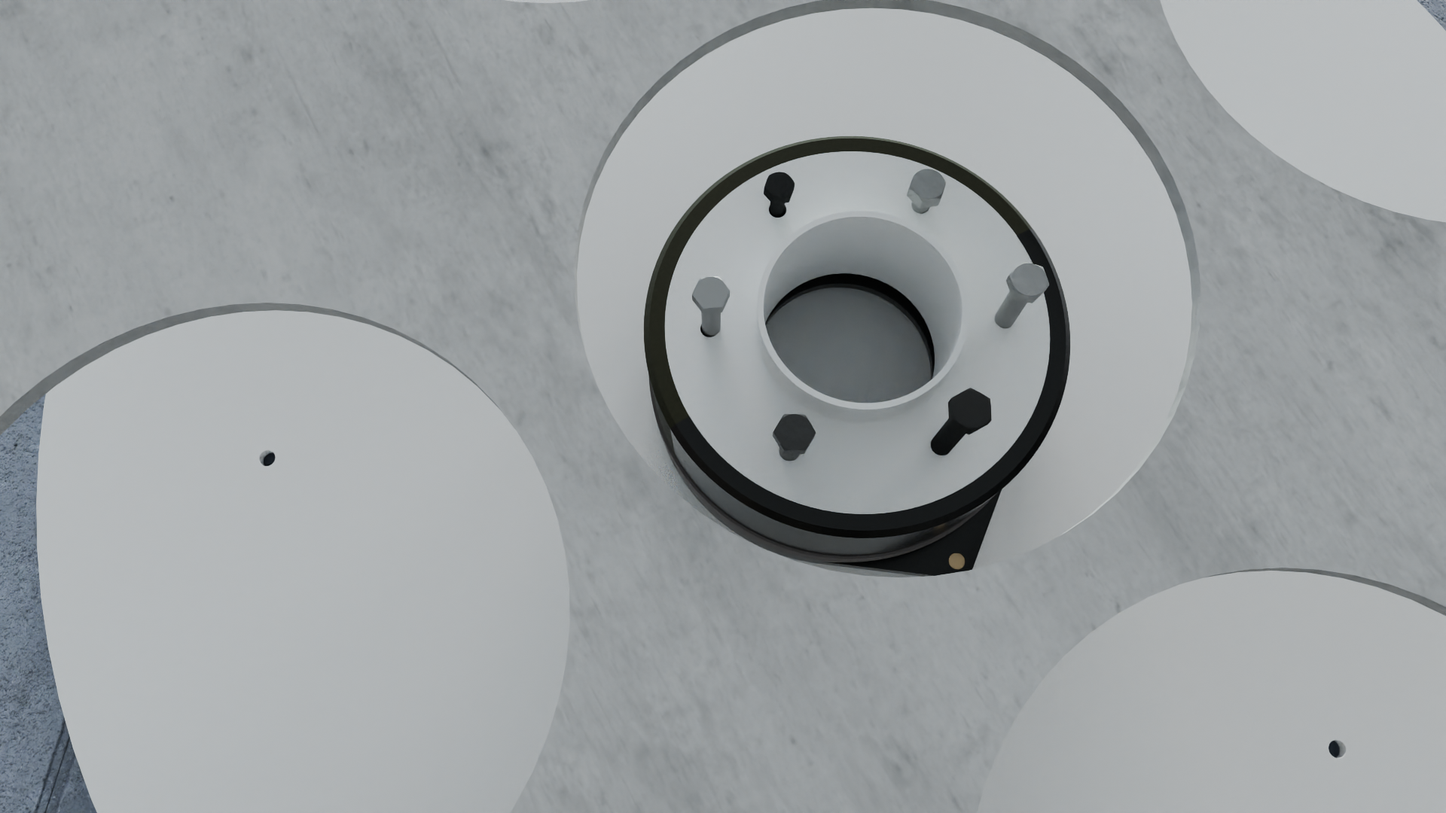bolt: (951, 388, 992, 431), (773, 414, 816, 450), (1009, 262, 1049, 298), (692, 276, 730, 309), (909, 169, 946, 202), (764, 172, 795, 199)
